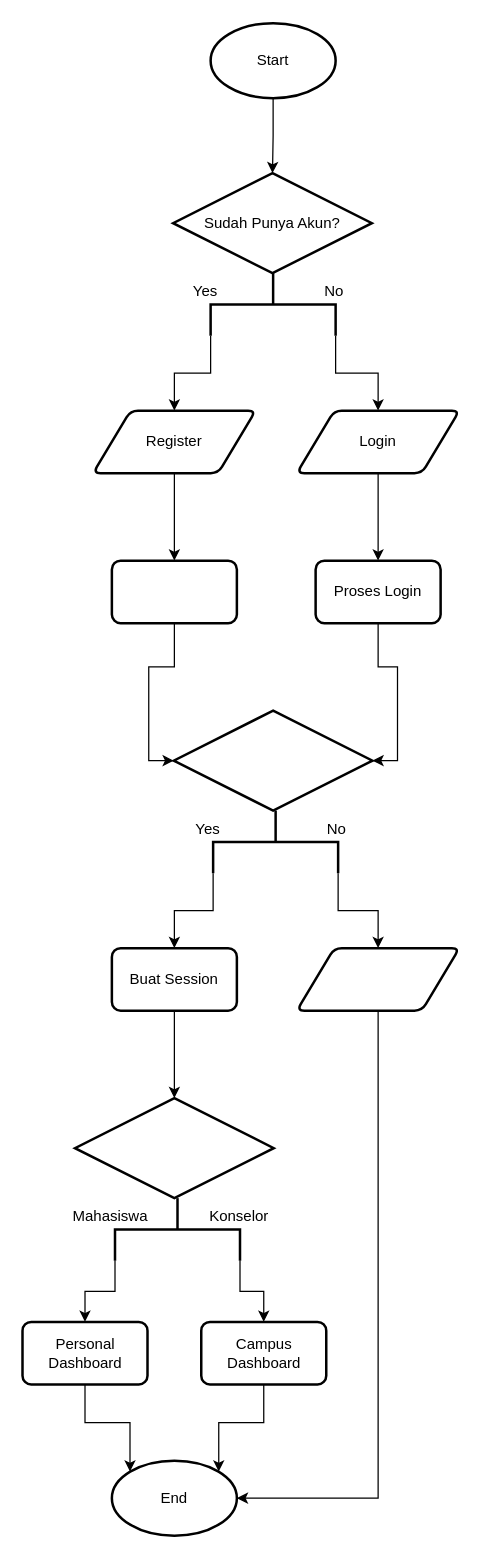
Some shapes in this 483 by 1558 pixel diagram are drawn without their labels. Here are the shapes that lost their labels. From the top down, the centre of each, then its label:
At [174,591]: "Proses Register".
At [272,760]: "Authentication Berhasil?".
At [377,978]: "Tampilkan Error".
At [173,1147]: "Cek Role".
